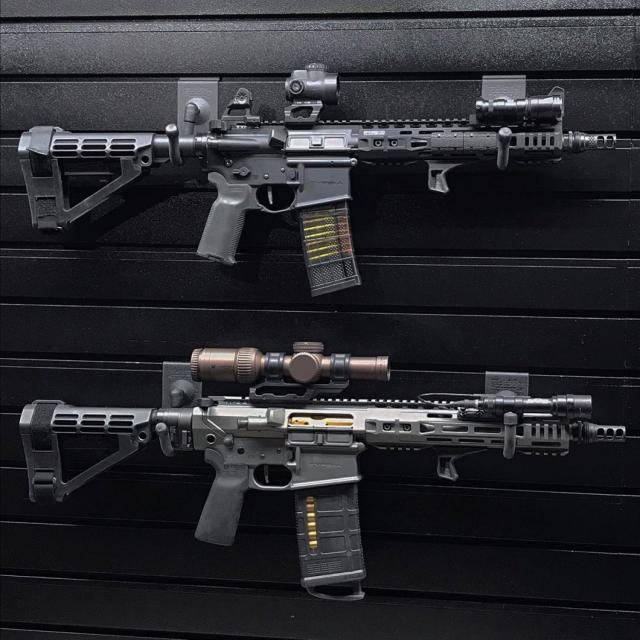Rifle: (18, 342, 629, 603), (17, 67, 640, 300)
